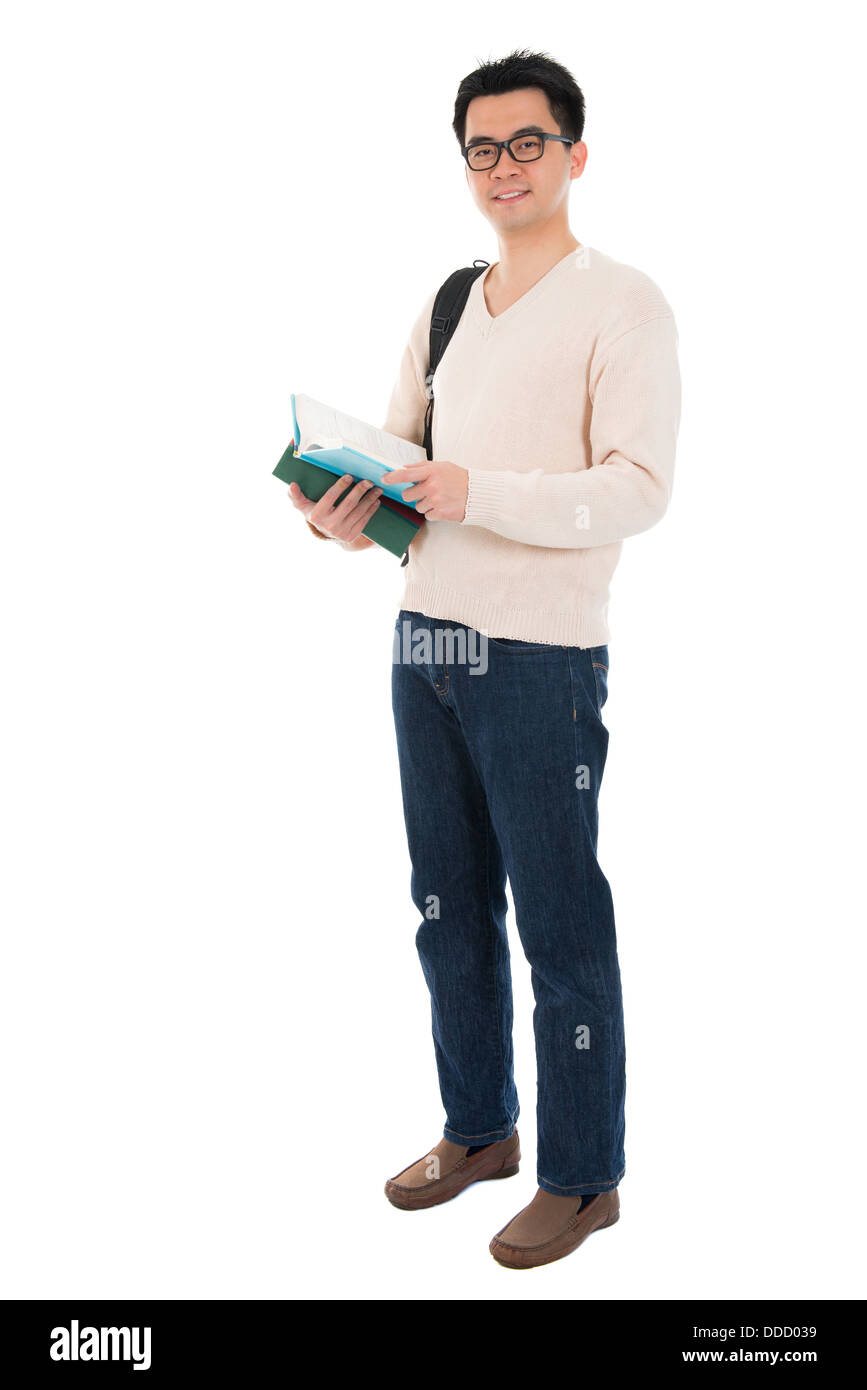person: (297, 56, 678, 1266)
